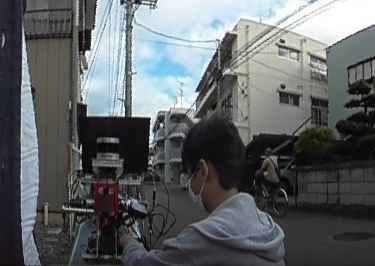person: (161, 118, 288, 266), (259, 147, 281, 204)
